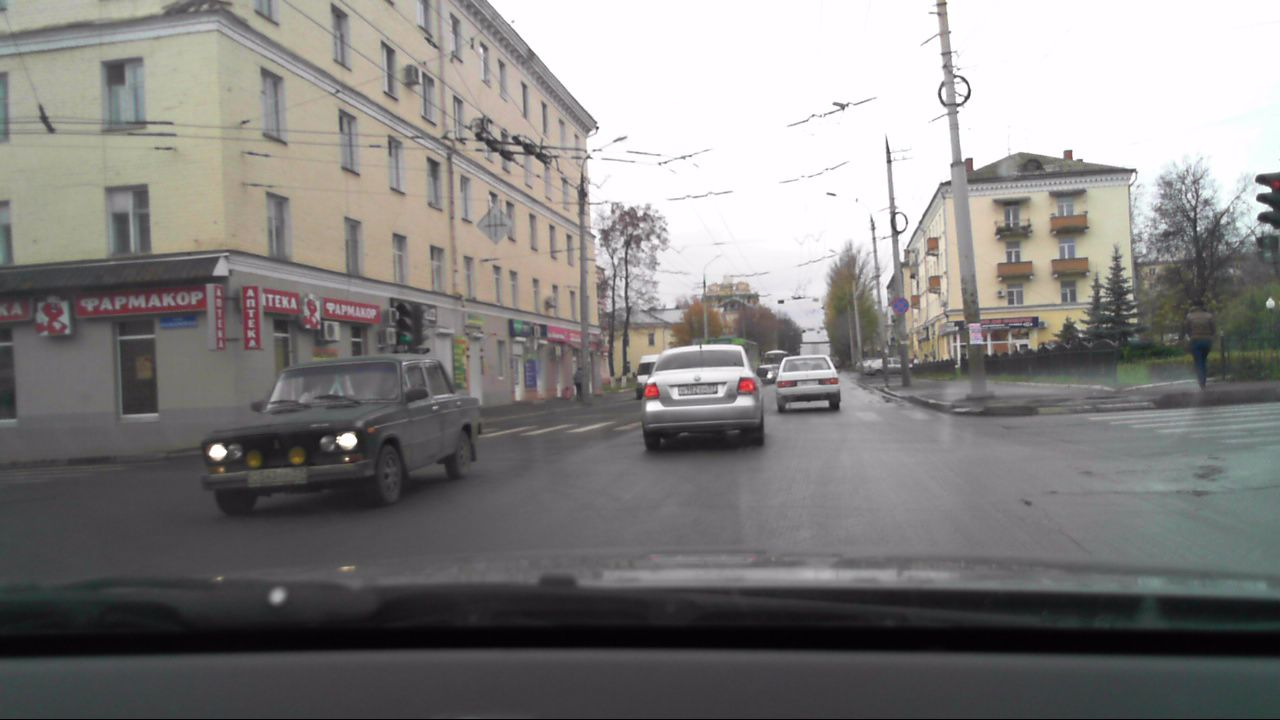No Parking: (891, 294, 912, 314)
